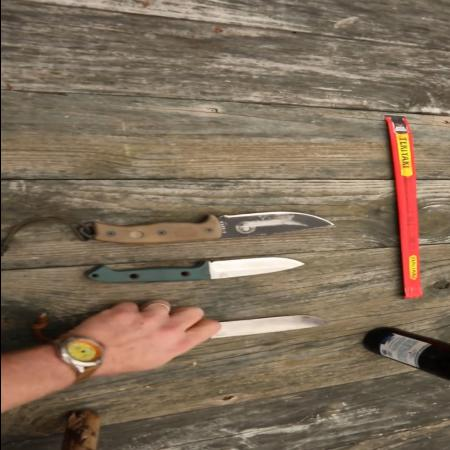long weapon: (144, 298, 340, 372), (183, 205, 347, 245), (177, 252, 319, 288)
